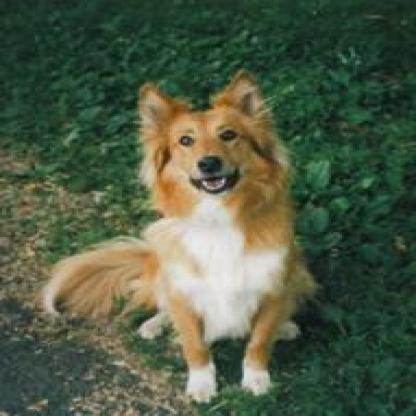collie: (35, 65, 322, 404)
